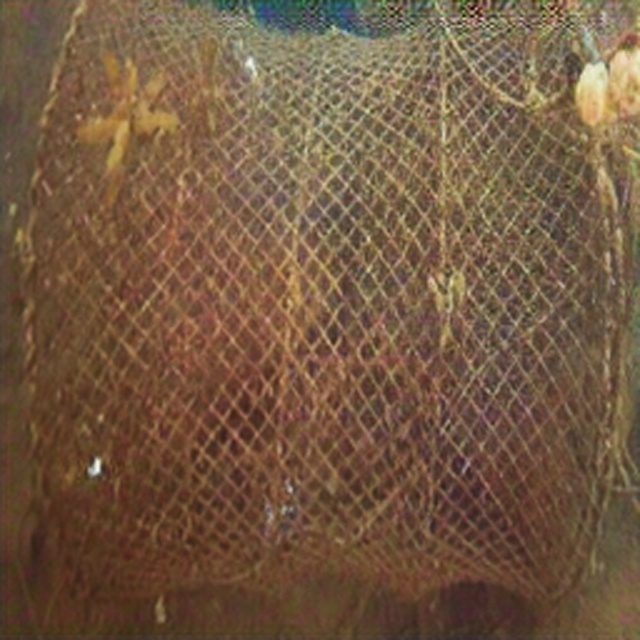mine: (23, 0, 624, 605)
